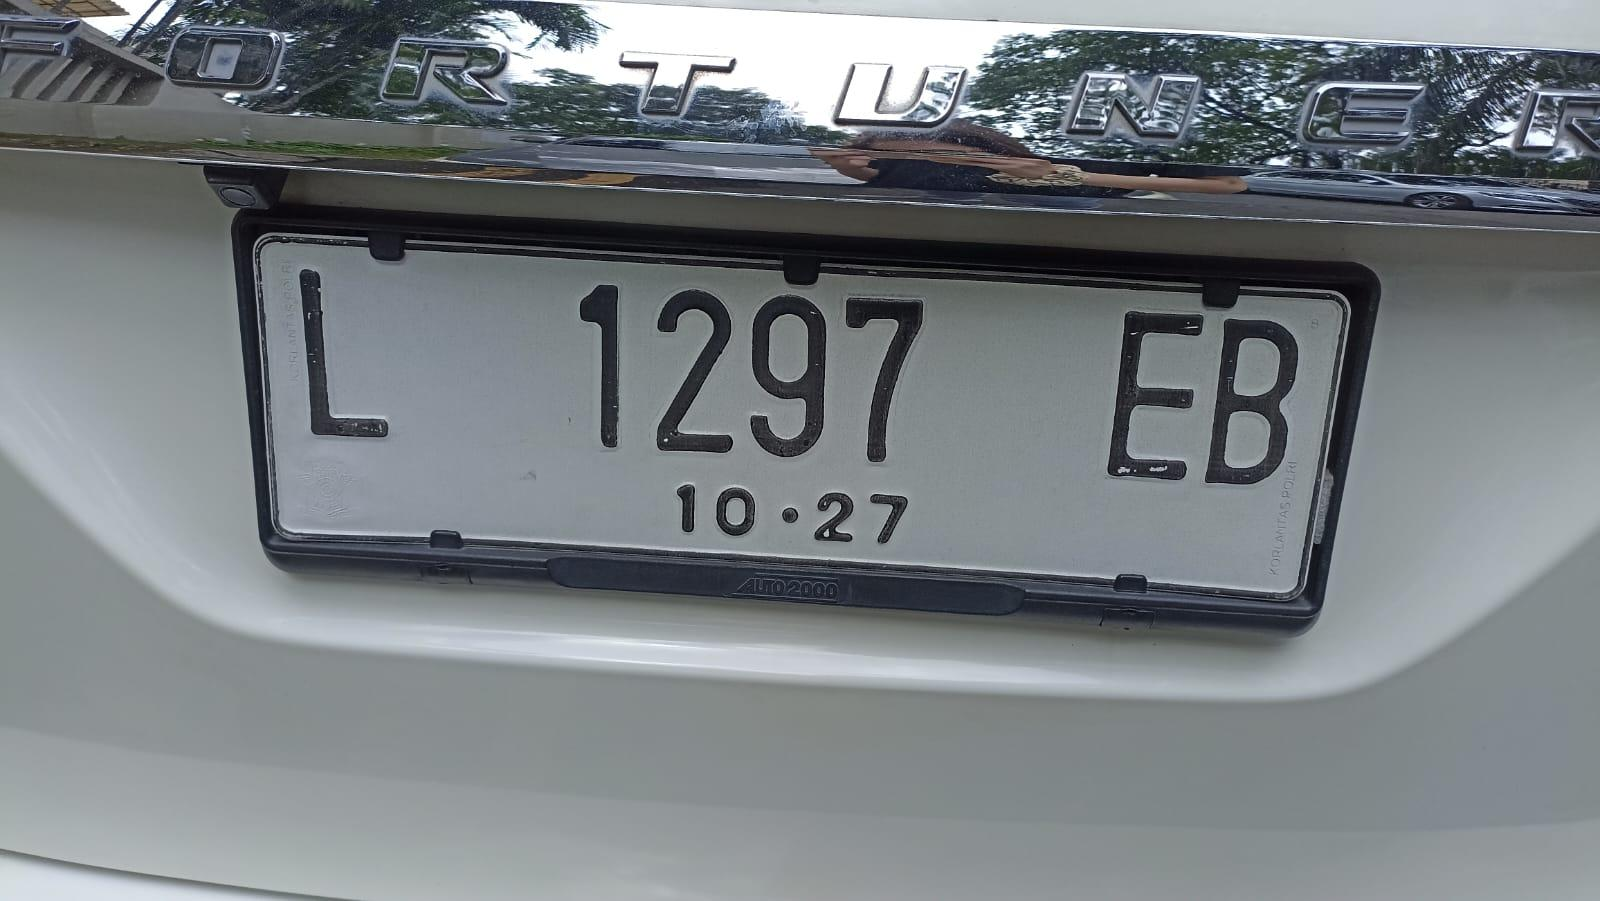plat: (234, 210, 1378, 632)
